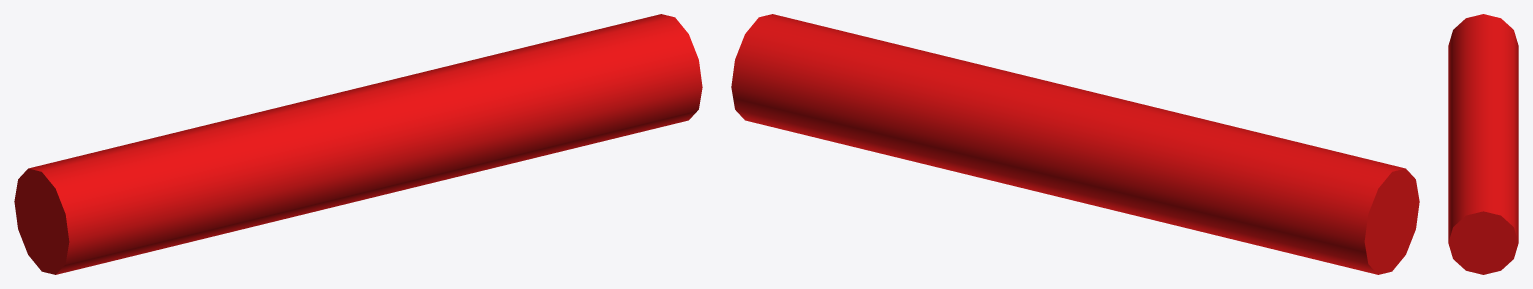
The model's file is grable_line.fbx.
3 renders of one model, left to right at view 1: azimuth 30°, elevation 25°; view 2: azimuth 150°, elevation 25°; view 3: azimuth 270°, elevation 25°, orthographic. The views are drawn at different scales.
Parts seen in each view (by area): view 1: grable_line; view 2: grable_line; view 3: grable_line.
Part boxes in pixels (box(x1,y1,x2,y2)): grable_line: box(14, 14, 702, 274); grable_line: box(731, 14, 1419, 274); grable_line: box(1448, 14, 1518, 274).
Bounding box in the file's own units: 20.19 × 3.04 × 3.04.
